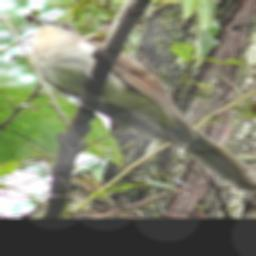Cuckoo: (25, 14, 256, 193)
